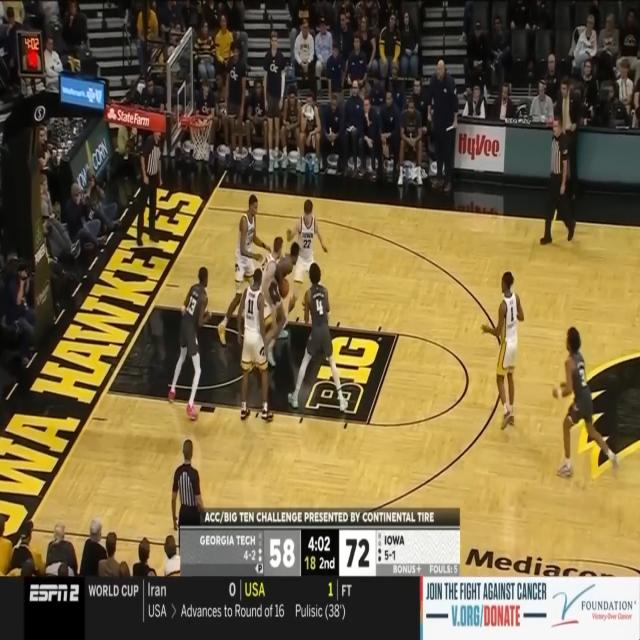Ball: (280, 278, 290, 300)
Clock: (17, 31, 44, 76)
Hoop: (189, 112, 213, 164)
Overlay: (0, 577, 640, 640), (180, 507, 460, 578)
Player: (551, 325, 620, 482), (286, 260, 348, 413), (217, 193, 271, 347), (480, 270, 524, 431), (166, 265, 209, 419), (236, 266, 275, 421), (282, 198, 328, 328), (252, 236, 284, 362), (268, 241, 300, 366)
Ref: (538, 116, 579, 246), (172, 436, 207, 580), (136, 124, 162, 246)
Scoreboard: (180, 530, 460, 577)
